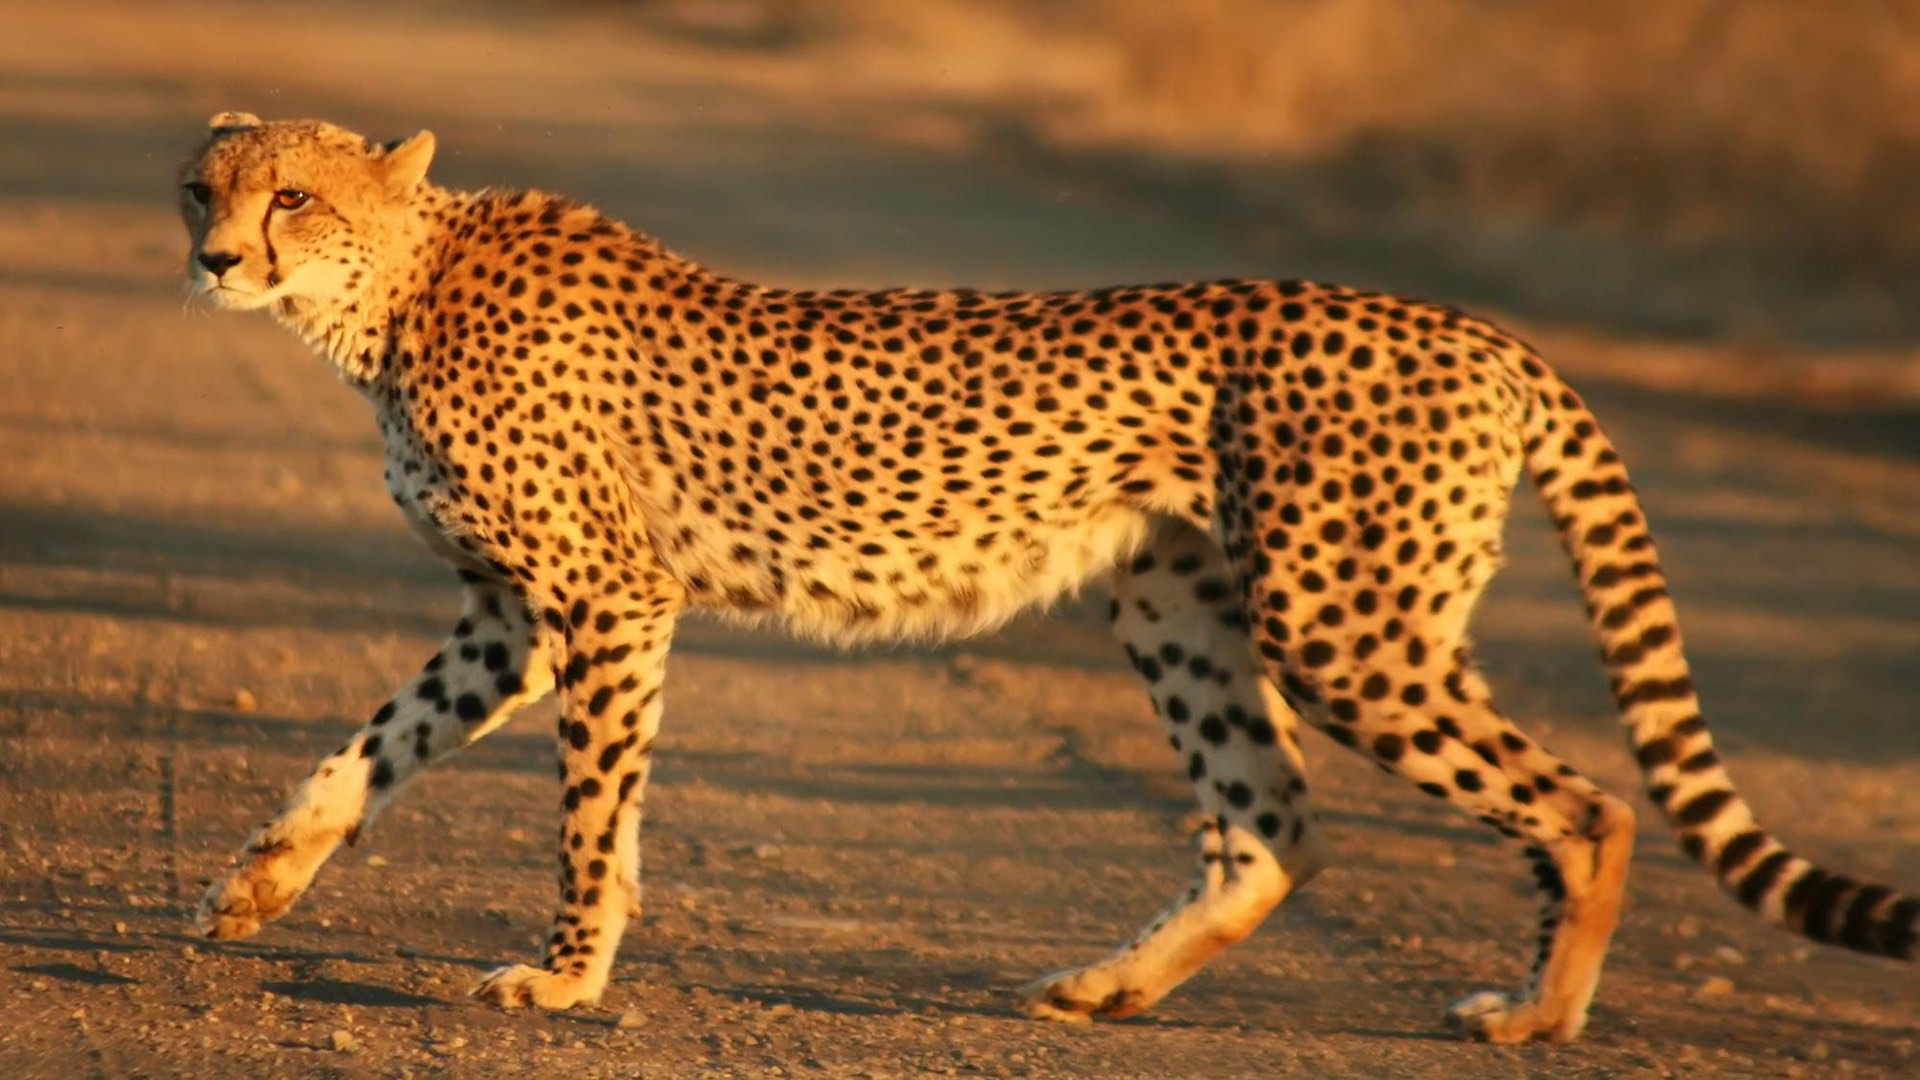cheetah: (133, 58, 467, 375)
